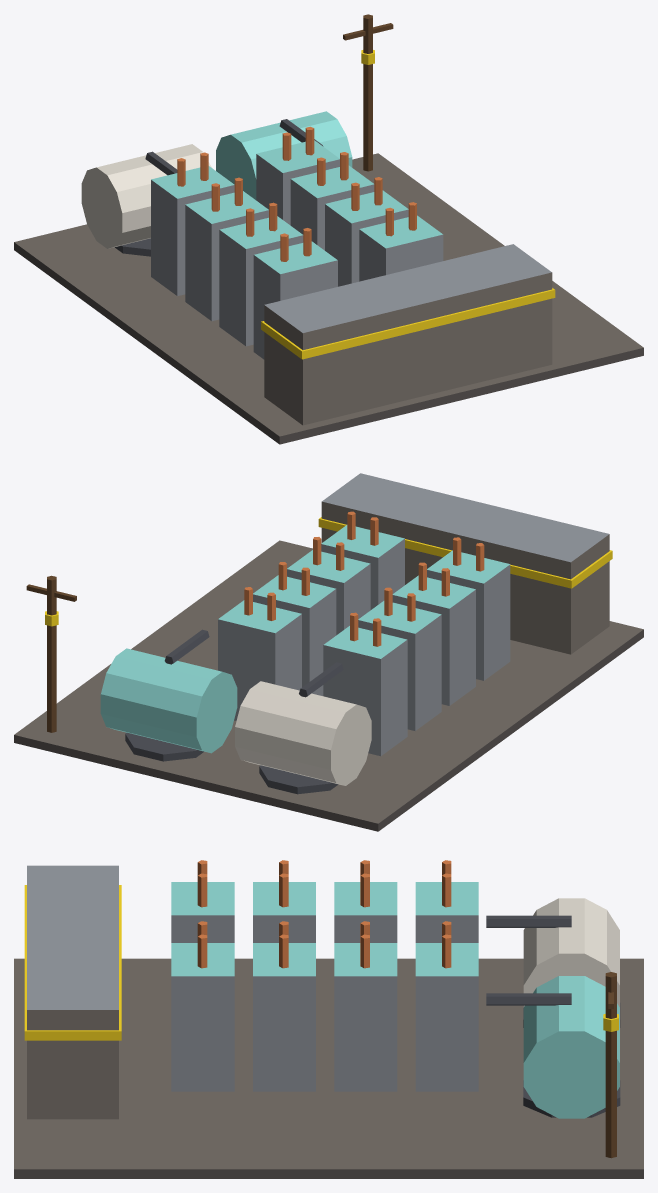
File: electrolyzer.glb
The picture shows the model from 3 angles, top to bottom: view 1: azimuth 30°, elevation 25°; view 2: azimuth 150°, elevation 25°; view 3: azimuth 270°, elevation 25°; orthographic projection. The views are drawn at different scales.
Visible parts, largest first — view 1: electrolyzer; view 2: electrolyzer; view 3: electrolyzer.
Part boxes in pixels (x1=…): electrolyzer: x1=14, y1=14, x2=643, y2=444; electrolyzer: x1=14, y1=473, x2=643, y2=831; electrolyzer: x1=14, y1=860, x2=643, y2=1178.
Size of the model in its own units: 3.8 by 1.6 by 4.8.
